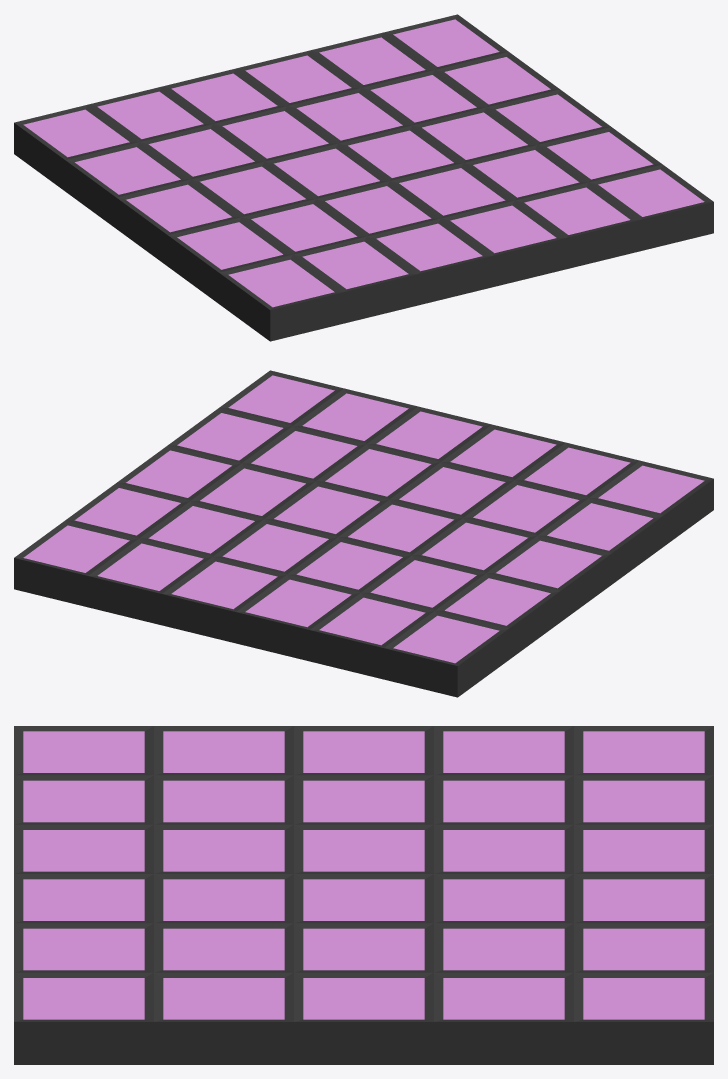
Rendered from Floor.fbx.
3 views of the same model, one above another, from view 1: azimuth 30°, elevation 25°; view 2: azimuth 150°, elevation 25°; view 3: azimuth 270°, elevation 25° (orthographic). The views are drawn at different scales.
Visible parts, largest first — view 1: Floor; view 2: Floor; view 3: Floor.
Part boxes in pixels (bbox=[...]): Floor: bbox=[14, 14, 713, 341]; Floor: bbox=[14, 370, 713, 697]; Floor: bbox=[14, 726, 713, 1064].
Bounding box in the file's own units: 767 × 51.92 × 767.
